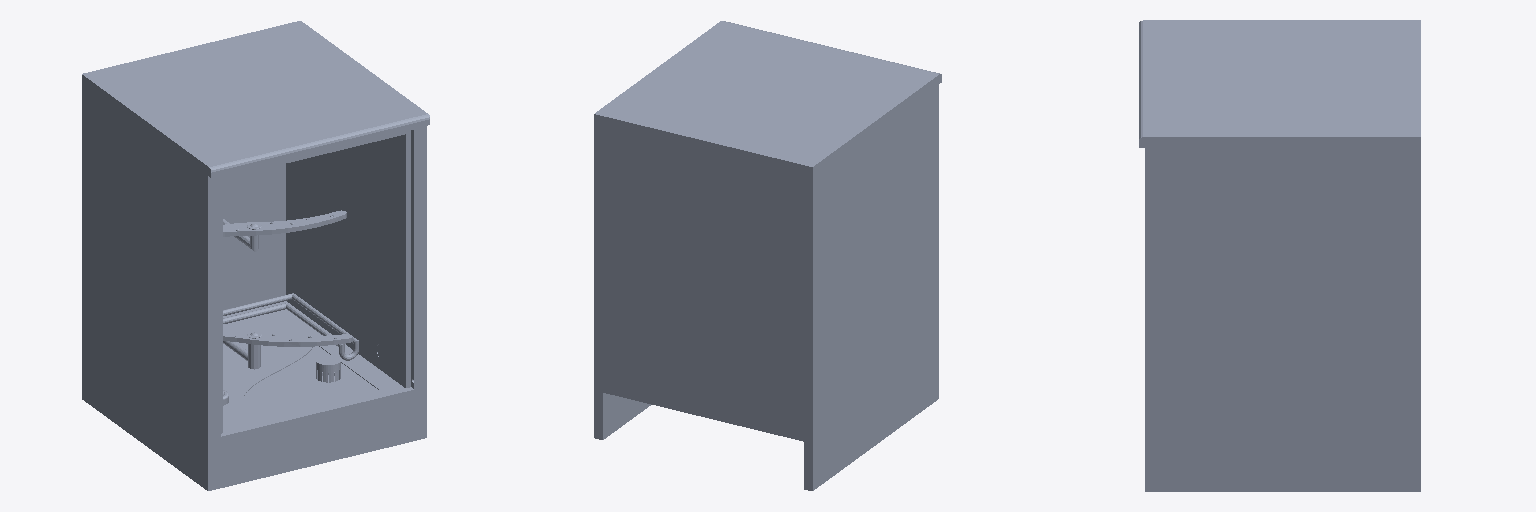
URDF robot description (kitchen_assembly):
<?xml version="1.0" encoding="utf-8"?>
<!-- This URDF was automatically created by SolidWorks to URDF Exporter! Originally created by Stephen Brawner (brawner@gmail.com) 
     Commit Version: 1.6.0-1-g15f4949  Build Version: 1.6.7594.29634
     For more information, please see http://wiki.ros.org/sw_urdf_exporter -->
<robot
  name="kitchen_assembly">
  <link name="world"/>
  <joint name="world_to_base" type="fixed">
    <origin rpy="0 0 0" xyz="0 0 0.0"/>
    <parent link="world"/>
    <child link="base_link"/>
  </joint>
  <link
    name="base_link">
    <inertial>
      <origin
        xyz="0.313499659457917 2.3173852195085 0.394942314283965"
        rpy="0 0 0" />
      <mass
        value="316.376363075488" />
      <inertia
        ixx="74.1145332321338"
        ixy="-0.0808214588574129"
        ixz="-0.084857135569208"
        iyy="24.7171721508172"
        iyz="-0.0169272838726124"
        izz="72.3460972677664" />
    </inertial>
    <visual>
      <origin
        xyz="0 0 0"
        rpy="0 0 0" />
      <geometry>
        <mesh
          filename="package://./meshes/base_link.STL" />
      </geometry>
      <material
        name="">
        <color
          rgba="0.666666666666667 0.698039215686274 0.768627450980392 1" />
      </material>
    </visual>
    <collision>
      <origin
        xyz="0 0 0"
        rpy="0 0 0" />
      <geometry>
        <mesh
          filename="package://kitchen_assembly/meshes/base_link.STL" />
      </geometry>
    </collision>
  </link>
</robot>

--- Facts derived from the render (not from the file) ---
Views: 3 orthographic renders of the robot side by side, from view 1: azimuth 30°, elevation 25°; view 2: azimuth 150°, elevation 25°; view 3: azimuth 270°, elevation 25°.
Model kitchen_assembly with 2 links and 1 joints (1 fixed), rooted at world, posed all joints at 0.
Visible links, largest first — view 1: base_link; view 2: base_link; view 3: base_link.
Boxes of the visible links, bbox=[...] form: base_link: bbox=[82, 21, 429, 490]; base_link: bbox=[594, 21, 941, 490]; base_link: bbox=[1139, 20, 1420, 491].
Bounding box of the posed robot: 0.6 × 0.615 × 0.85 m (x, y, z).
1 mesh visuals loaded from 1 distinct referenced files (1 binary STL).
